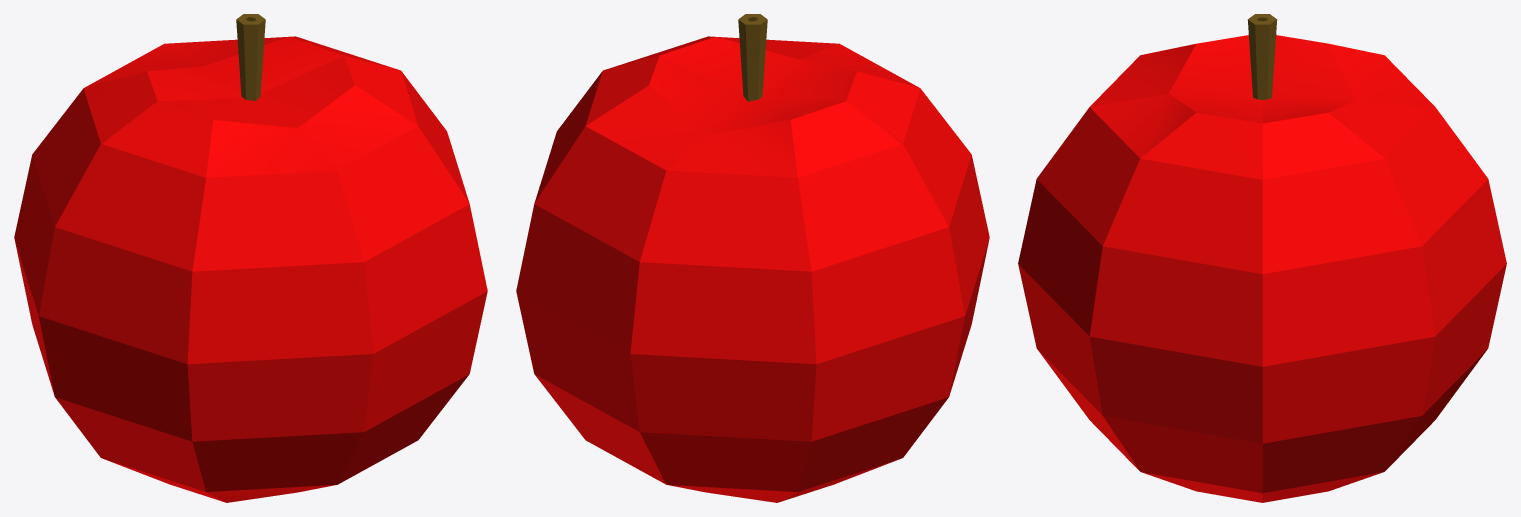
Rendered from apple.obj.
The picture shows the model from 3 angles, left to right: view 1: azimuth 30°, elevation 25°; view 2: azimuth 150°, elevation 25°; view 3: azimuth 270°, elevation 25°; orthographic projection.
Parts seen in each view (by area): view 1: pSphere1 group1, group1 pCylinder1; view 2: pSphere1 group1, group1 pCylinder1; view 3: pSphere1 group1, group1 pCylinder1.
Part boxes in pixels (box(x1,y1,x2,y2)): pSphere1 group1: box(14, 36, 487, 502); group1 pCylinder1: box(236, 14, 265, 100); pSphere1 group1: box(516, 36, 989, 502); group1 pCylinder1: box(738, 14, 767, 101); pSphere1 group1: box(1018, 35, 1506, 502); group1 pCylinder1: box(1247, 14, 1277, 99).
Size of the model in its own units: 2 by 2 by 2.
Materials: 1 (1 with a texture image).
